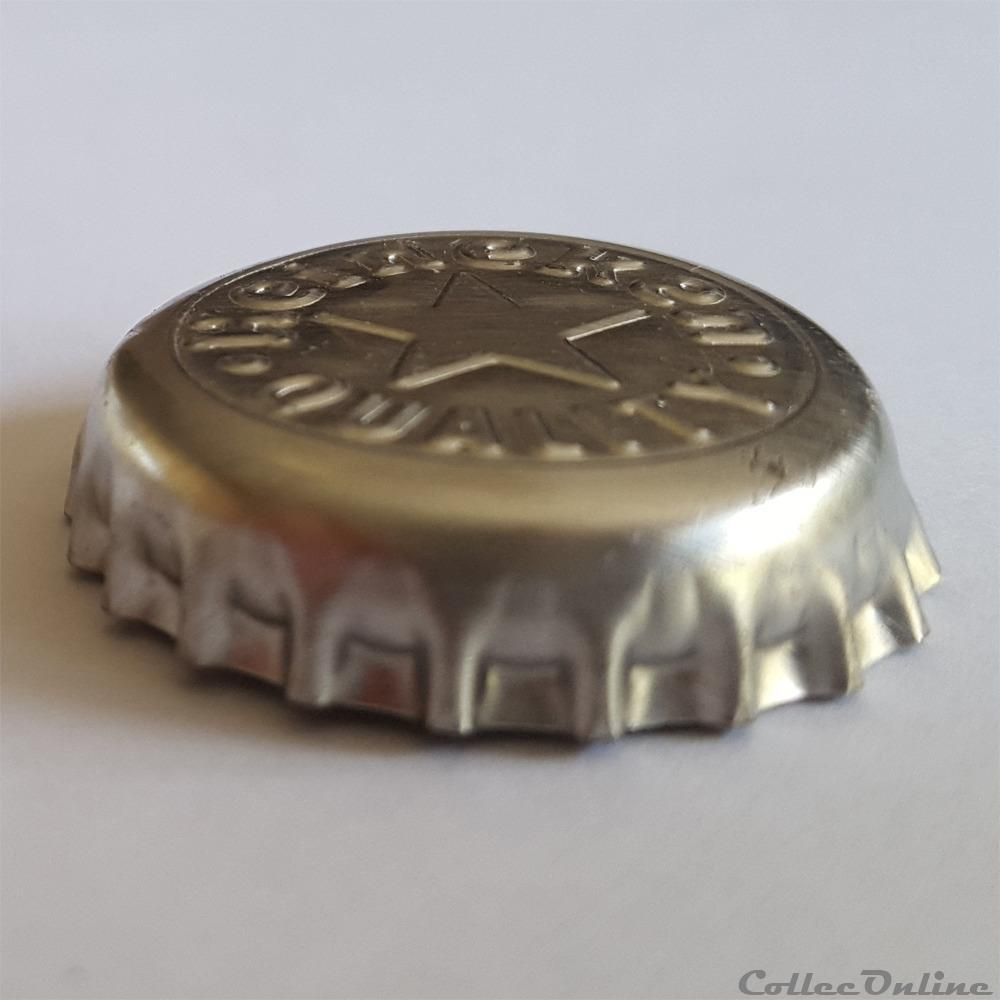metal: (65, 232, 940, 740)
